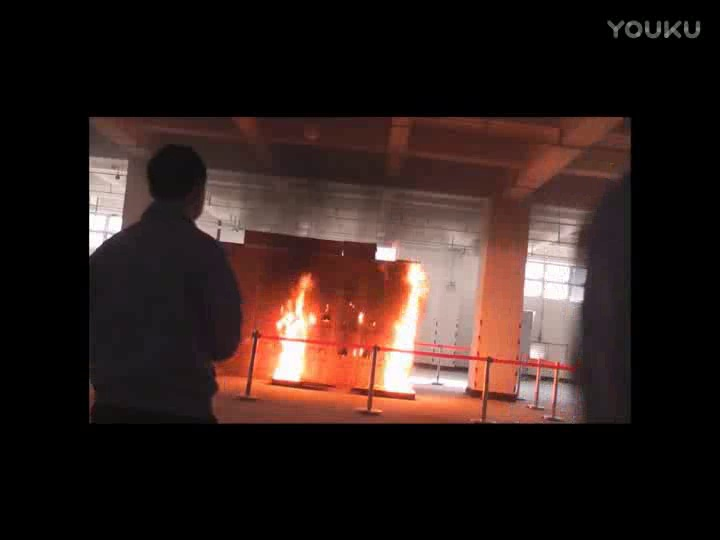fire: (376, 256, 431, 395), (273, 276, 313, 385)
